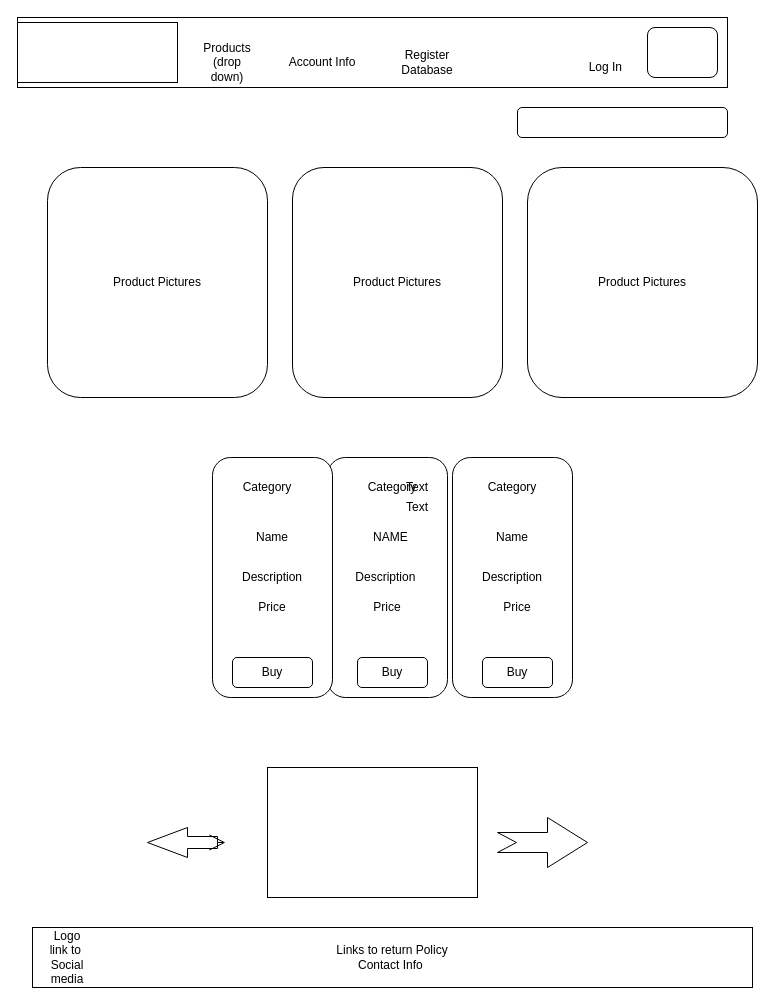
The diagram is 775 pixels wide and 1005 high, and some of its shapes have lost their labels. Each missing label, with the centre of its shape:
Cart Logo: point 682,52
Home Page Logo Link: point 97,52
Searchbar: point 622,122
Testimonial/Reviews: point 372,832
